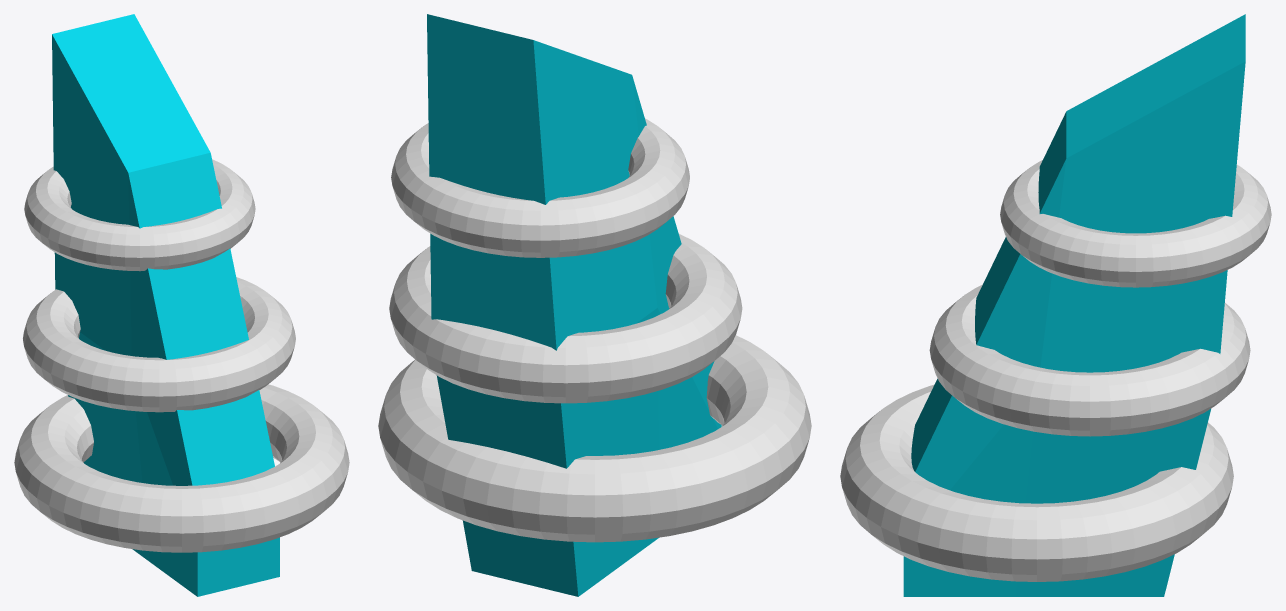
Rendered from Building5.fbx.
3 views of the same model, side by side, from view 1: azimuth 30°, elevation 25°; view 2: azimuth 150°, elevation 25°; view 3: azimuth 270°, elevation 25° (orthographic). The views are drawn at different scales.
Visible parts, largest first — view 1: Cube, Torus, Torus.001, Torus.002; view 2: Cube, Torus, Torus.001, Torus.002; view 3: Cube, Torus, Torus.001, Torus.002.
Part boxes in pixels (left/top/right/bottom): Cube: left=52, top=14, right=279, bottom=596; Torus: left=14, top=384, right=349, bottom=552; Torus.001: left=23, top=277, right=295, bottom=412; Torus.002: left=24, top=159, right=255, bottom=271; Cube: left=427, top=14, right=721, bottom=596; Torus: left=378, top=335, right=811, bottom=542; Torus.001: left=389, top=234, right=742, bottom=403; Torus.002: left=391, top=118, right=689, bottom=257; Cube: left=903, top=14, right=1245, bottom=596; Torus: left=840, top=385, right=1233, bottom=581; Torus.001: left=929, top=284, right=1250, bottom=436; Torus.002: left=1000, top=160, right=1271, bottom=287.
Bounding box in the file's own units: 1137 × 1708 × 1246.
